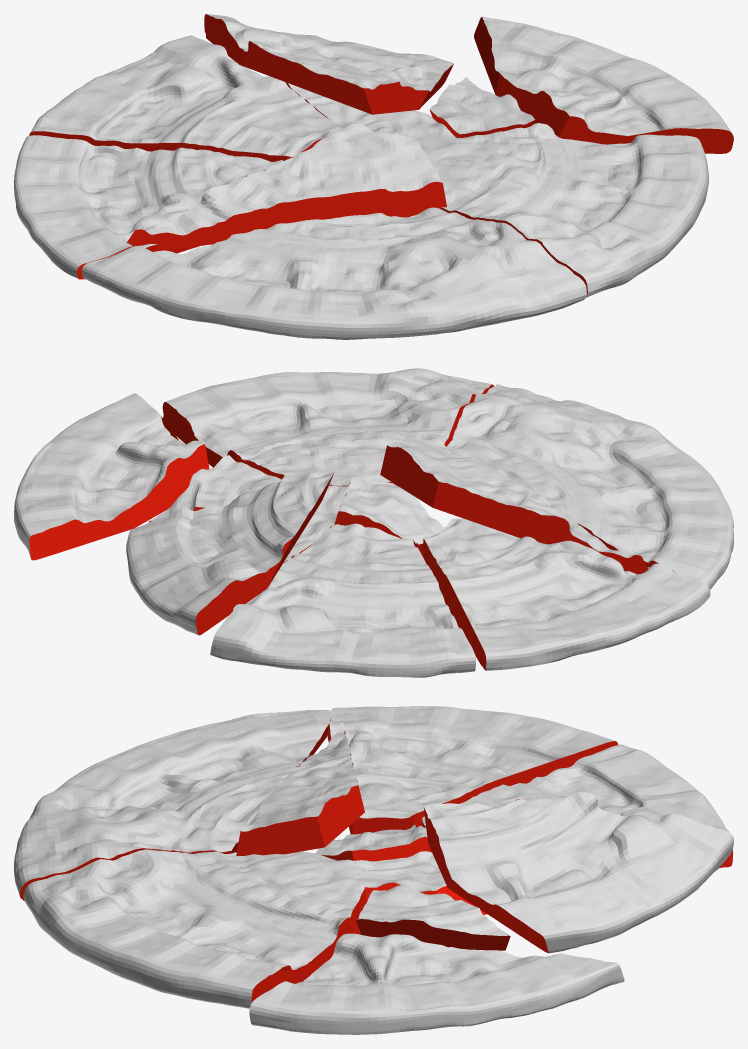
File: sun_calendar_cracked_1.fbx
3 renders of one model, top to bottom at view 1: azimuth 30°, elevation 25°; view 2: azimuth 150°, elevation 25°; view 3: azimuth 270°, elevation 25°, orthographic. The views are drawn at different scales.
Visible parts, largest first — view 1: Calendar_4_a_cell.001; view 2: Calendar_4_a_cell.001; view 3: Calendar_4_a_cell.001.
Boxes of the visible parts, x1,y1,x2,y2 form: Calendar_4_a_cell.001: (14, 14, 733, 339); Calendar_4_a_cell.001: (14, 368, 733, 677); Calendar_4_a_cell.001: (14, 706, 733, 1034).
Size of the model in its own units: 248 by 33.48 by 234.
